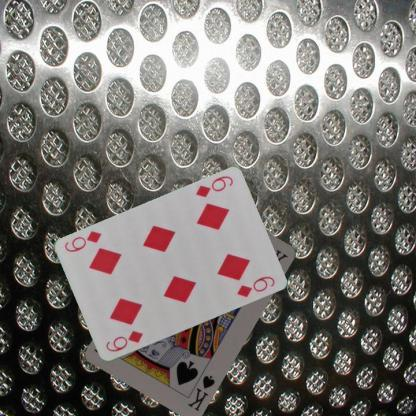6d: (102, 328, 144, 354), (193, 174, 234, 200)
Ks: (185, 372, 216, 412)
